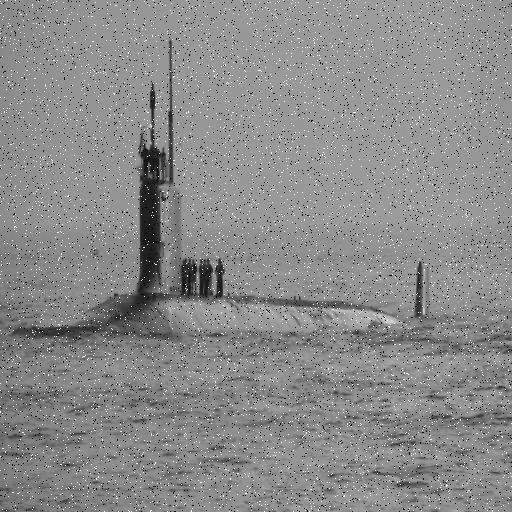submarine: (38, 37, 464, 344)
